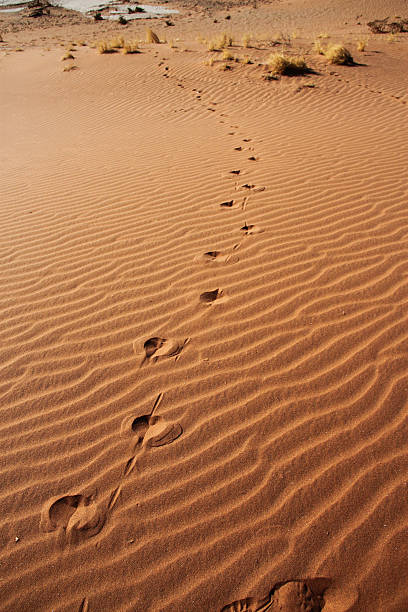animal_footprint: (122, 393, 182, 476), (221, 578, 331, 611), (40, 493, 105, 543), (140, 337, 189, 365), (195, 250, 238, 263), (199, 288, 222, 304), (220, 197, 246, 209), (240, 223, 263, 234), (240, 183, 265, 192), (78, 597, 88, 611)
